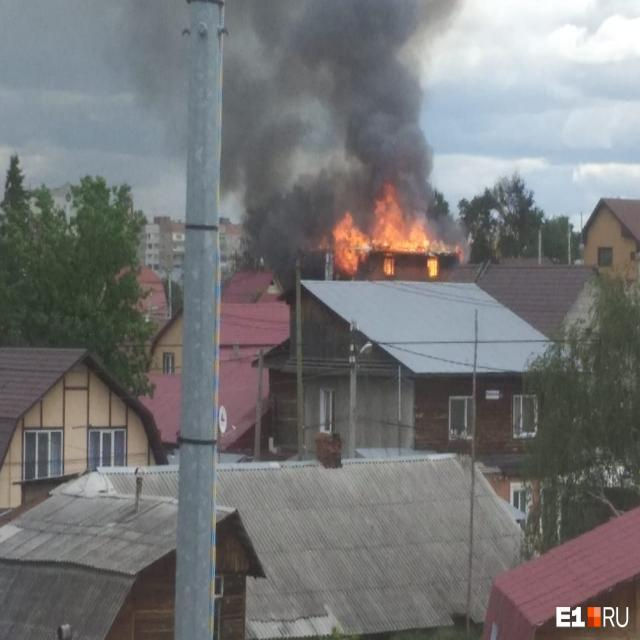Fire: (331, 184, 455, 276)
Smoke: (114, 0, 475, 266)
